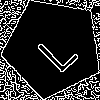L: (28, 23, 81, 75)
